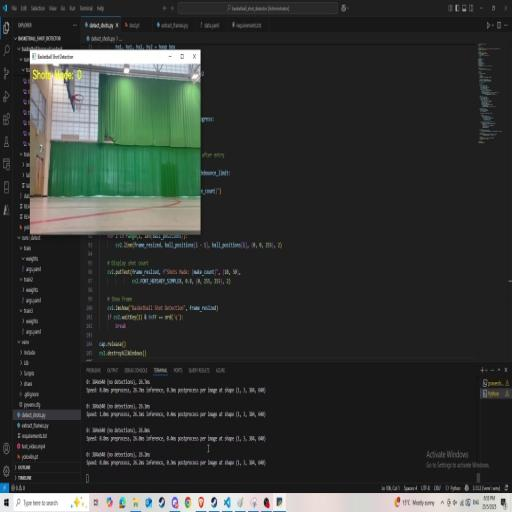hoops: (71, 92, 85, 111)
